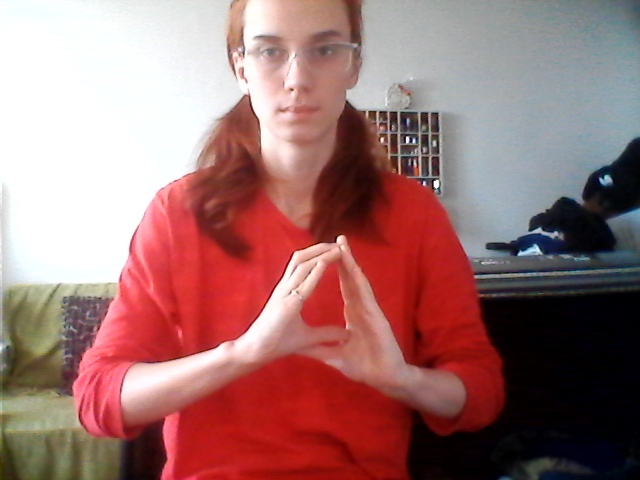d: (266, 230, 408, 396)
